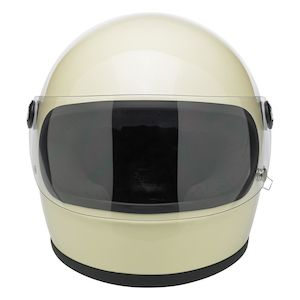with_helmet: (23, 13, 278, 285)
